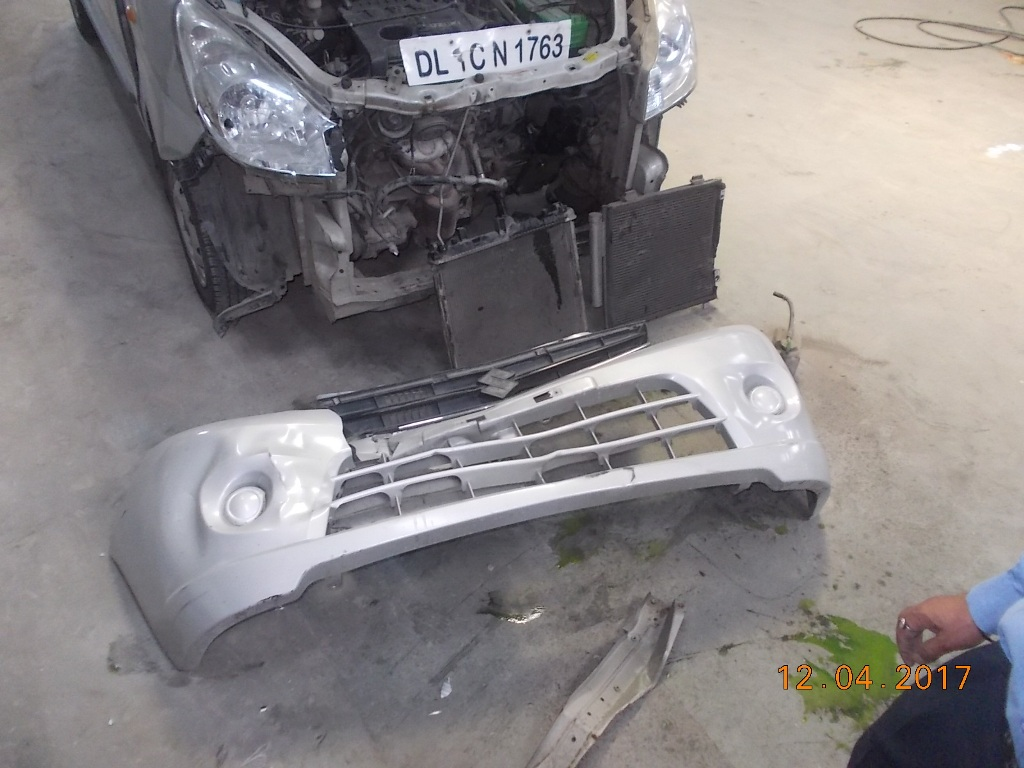Large_tear_or_damage: (154, 44, 714, 315)
